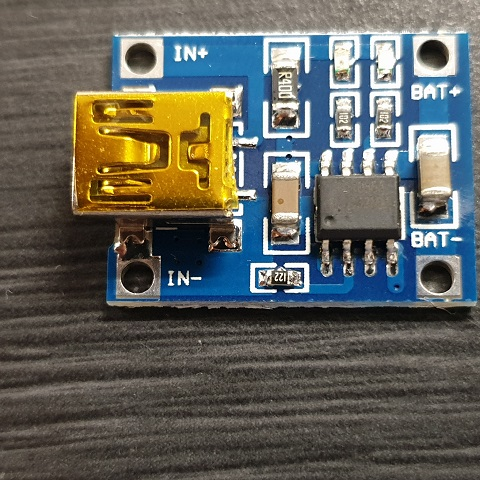batt+: (416, 36, 452, 78)
batt-: (417, 258, 454, 300)
charge: (324, 34, 362, 91)
done: (361, 34, 401, 94)
rprog: (246, 262, 308, 291)
usb: (70, 91, 240, 215)
